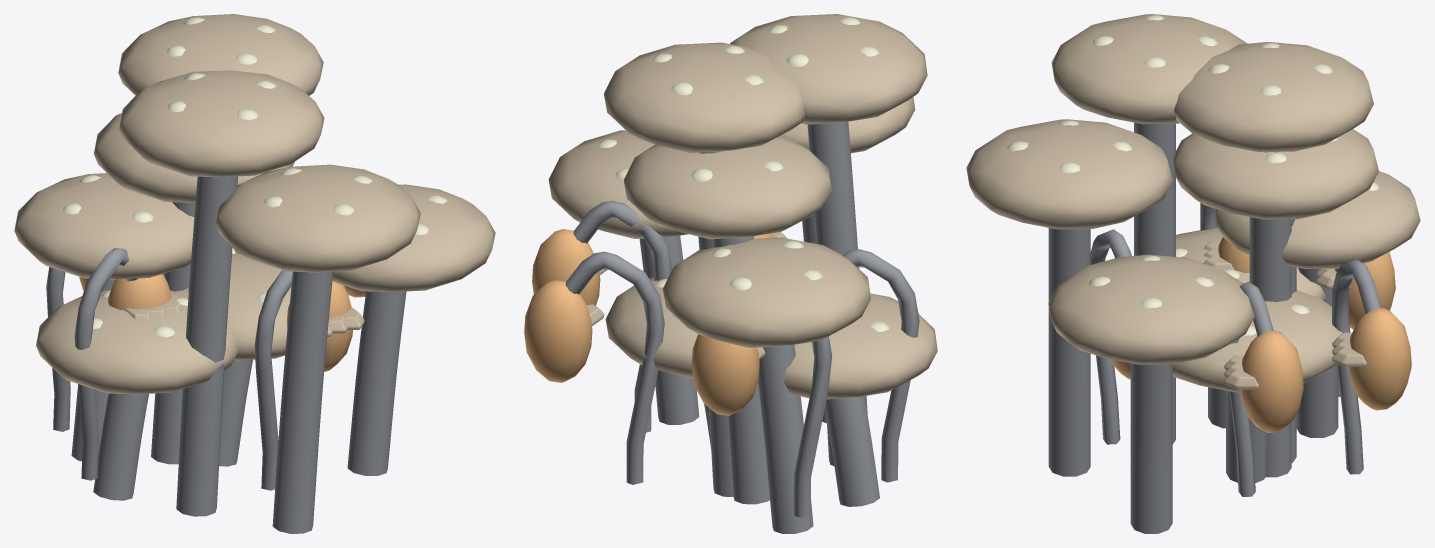
Rendered from bio_spore_fungus_13_far.glb.
The picture shows the model from 3 angles, left to right: view 1: azimuth 30°, elevation 25°; view 2: azimuth 150°, elevation 25°; view 3: azimuth 270°, elevation 25°; orthographic projection.
Parts seen in each view (by area): view 1: Thick umbrella cap.002, Thick umbrella cap.007, Thick umbrella cap.001, Curved stipe.007, Thick umbrella cap.004, Curved stipe.002, Thick umbrella cap.003, Thick umbrella cap.005, Curved stipe.005, Curved stipe.004, Thick umbrella cap.006, Thick umbrella cap (+13 smaller); view 2: Thick umbrella cap.001, Thick umbrella cap.003, Thick umbrella cap.006, Thick umbrella cap.007, Thick umbrella cap.004, Thick umbrella cap.005, Curved stipe.001, Pendant spore capsule.003, Arched fruit stem.003, Curved stipe.007, Curved stipe.004, Thick umbrella cap (+12 smaller); view 3: Thick umbrella cap.002, Thick umbrella cap.005, Thick umbrella cap.003, Thick umbrella cap.007, Thick umbrella cap.006, Thick umbrella cap.001, Curved stipe.002, Curved stipe.005, Thick umbrella cap, Pendant spore capsule, Pendant spore capsule.003, Curved stipe.003 (+16 smaller).
Part boxes in pixels (bbox=[...]): Thick umbrella cap.002: bbox=[215, 164, 420, 272]; Thick umbrella cap.007: bbox=[119, 70, 324, 177]; Thick umbrella cap.001: bbox=[14, 173, 194, 279]; Curved stipe.007: bbox=[176, 176, 237, 516]; Thick umbrella cap.004: bbox=[36, 289, 238, 394]; Curved stipe.002: bbox=[272, 271, 333, 533]; Thick umbrella cap.003: bbox=[118, 14, 323, 95]; Thick umbrella cap.005: bbox=[332, 184, 495, 291]; Curved stipe.005: bbox=[347, 291, 406, 475]; Curved stipe.004: bbox=[93, 393, 148, 500]; Thick umbrella cap.006: bbox=[94, 113, 294, 202]; Thick umbrella cap: bbox=[162, 253, 291, 360]; Thick umbrella cap.001: bbox=[663, 237, 870, 347]; Thick umbrella cap.003: bbox=[604, 42, 804, 153]; Thick umbrella cap.006: bbox=[623, 135, 831, 239]; Thick umbrella cap.007: bbox=[730, 14, 927, 124]; Thick umbrella cap.004: bbox=[784, 293, 937, 399]; Thick umbrella cap.005: bbox=[548, 130, 688, 238]; Curved stipe.001: bbox=[758, 345, 813, 533]; Pendant spore capsule.003: bbox=[524, 280, 592, 382]; Arched fruit stem.003: bbox=[565, 251, 664, 484]; Curved stipe.007: bbox=[807, 121, 867, 465]; Curved stipe.004: bbox=[825, 396, 879, 506]; Thick umbrella cap: bbox=[605, 277, 697, 378]; Thick umbrella cap.002: bbox=[966, 119, 1172, 229]; Thick umbrella cap.005: bbox=[1048, 254, 1254, 364]; Thick umbrella cap.003: bbox=[1174, 42, 1373, 151]; Thick umbrella cap.007: bbox=[1051, 14, 1246, 124]; Thick umbrella cap.006: bbox=[1172, 129, 1378, 219]; Thick umbrella cap.001: bbox=[1214, 171, 1420, 268]; Curved stipe.002: bbox=[1048, 228, 1090, 476]; Curved stipe.005: bbox=[1130, 363, 1172, 533]; Thick umbrella cap: bbox=[1172, 290, 1342, 392]; Pendant spore capsule: bbox=[1240, 330, 1303, 432]; Pendant spore capsule.003: bbox=[1348, 308, 1411, 410]; Curved stipe.003: bbox=[1249, 151, 1291, 477].
Bounding box in the file's own units: 1.86 × 1.87 × 1.84.
